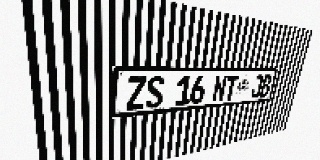1: (175, 76, 193, 106)
6: (189, 76, 207, 104)
B: (259, 75, 273, 97)
J: (250, 75, 264, 98)
N: (212, 75, 228, 102)
S: (145, 76, 165, 109)
T: (223, 75, 239, 101)
Z: (126, 76, 147, 111)
